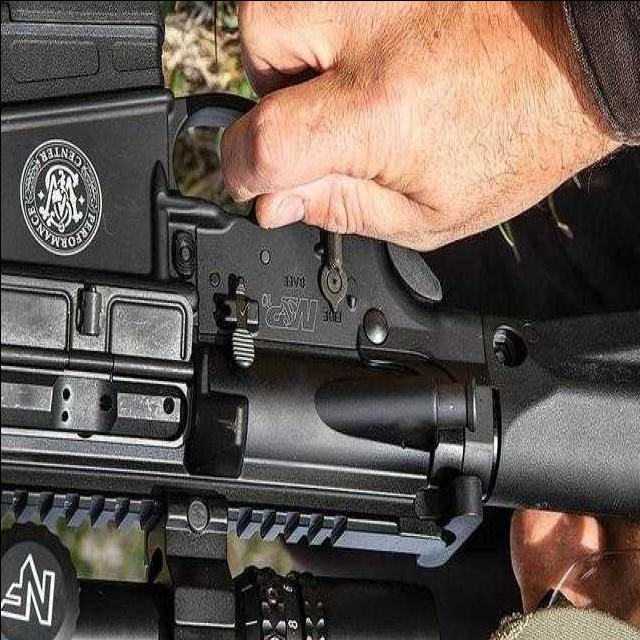heavyweapon: (2, 1, 640, 613)
